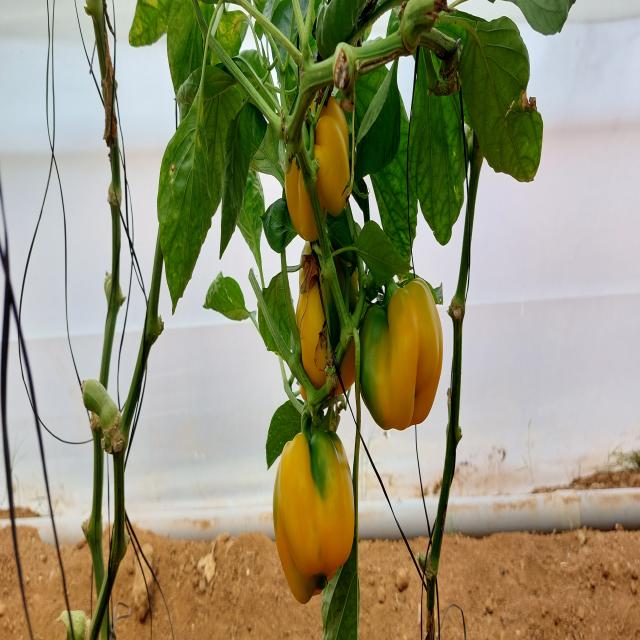Yellow-Ready-to-Harvest: (270, 428, 356, 608), (297, 242, 363, 392), (382, 275, 444, 433), (284, 102, 354, 221)
